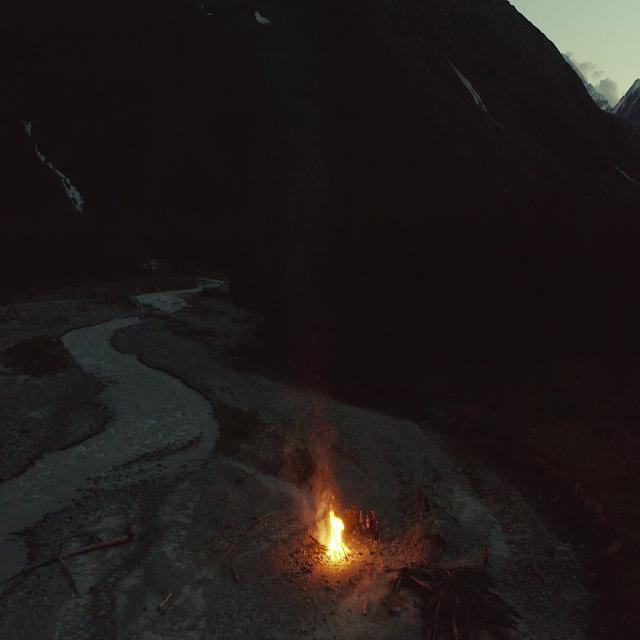Fire: (318, 499, 351, 567)
